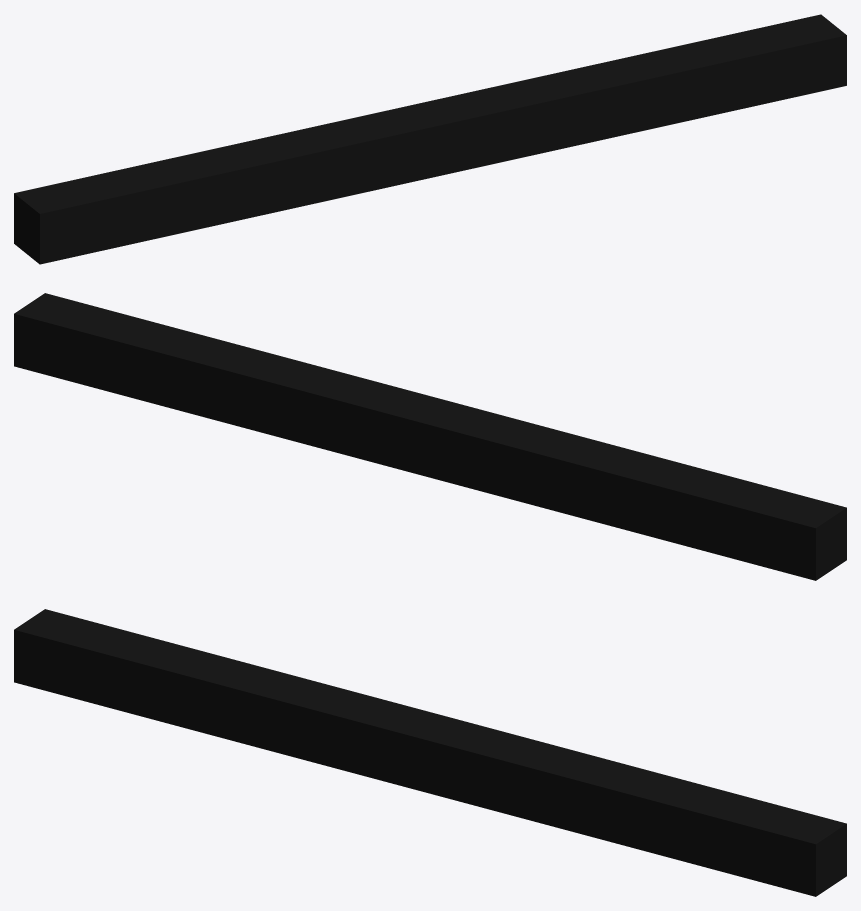
The model's file is frame__side_rail_1.glb.
3 views of the same model, one above another, from view 1: azimuth 30°, elevation 25°; view 2: azimuth 150°, elevation 25°; view 3: azimuth 330°, elevation 25° (orthographic). The views are drawn at different scales.
Parts seen in each view (by area): view 1: world; view 2: world; view 3: world.
Boxes of the visible parts, x1,y1,x2,y2 form: world: (14, 14, 846, 264); world: (14, 293, 846, 580); world: (14, 609, 846, 896).
Size of the model in its own units: 0.9824 by 0.06 by 0.1.
Materials: 1 (1 with a texture image).
